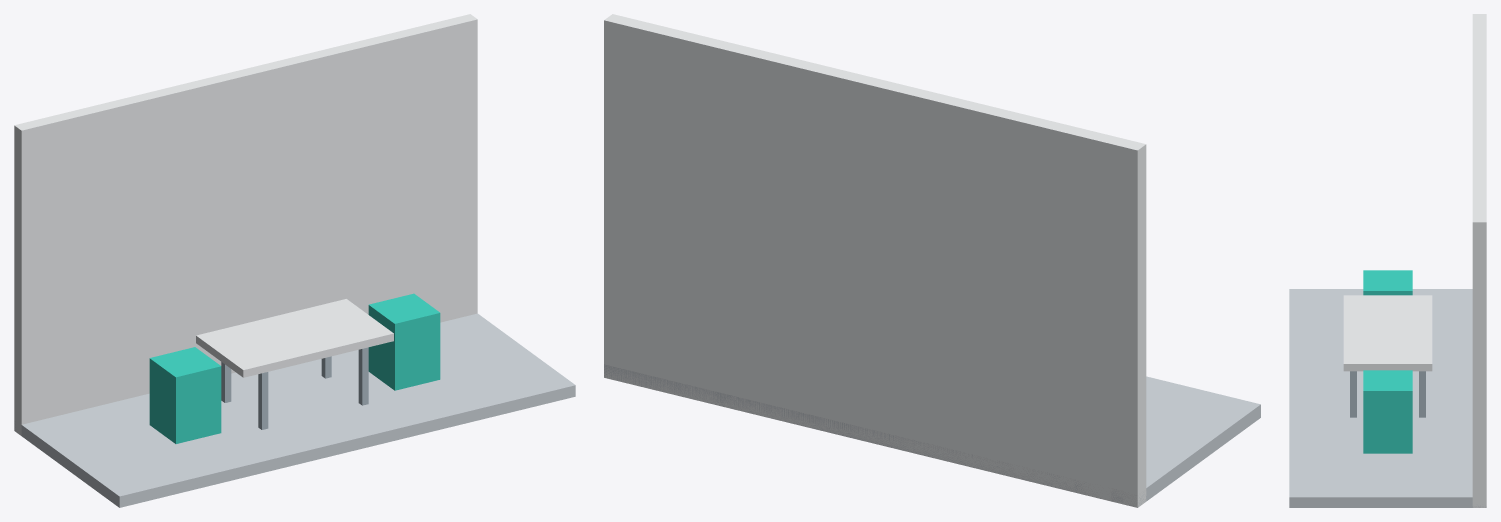
The picture shows the model from 3 angles, left to right: view 1: azimuth 30°, elevation 25°; view 2: azimuth 150°, elevation 25°; view 3: azimuth 270°, elevation 25°; orthographic projection. The views are drawn at different scales.
Parts seen in each view (by area): view 1: Exhibition Booth Concept; view 2: Exhibition Booth Concept; view 3: Exhibition Booth Concept.
Part boxes in pixels (box(x1,y1,x2,y2)): Exhibition Booth Concept: box(14, 14, 575, 507); Exhibition Booth Concept: box(604, 14, 1260, 507); Exhibition Booth Concept: box(1289, 14, 1486, 507).
Bounding box in the file's own units: 5 × 3.2 × 2.
